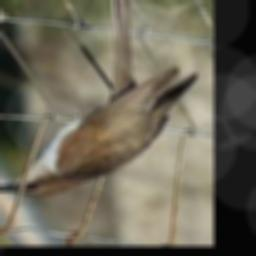Cuckoo: (0, 0, 197, 197)
